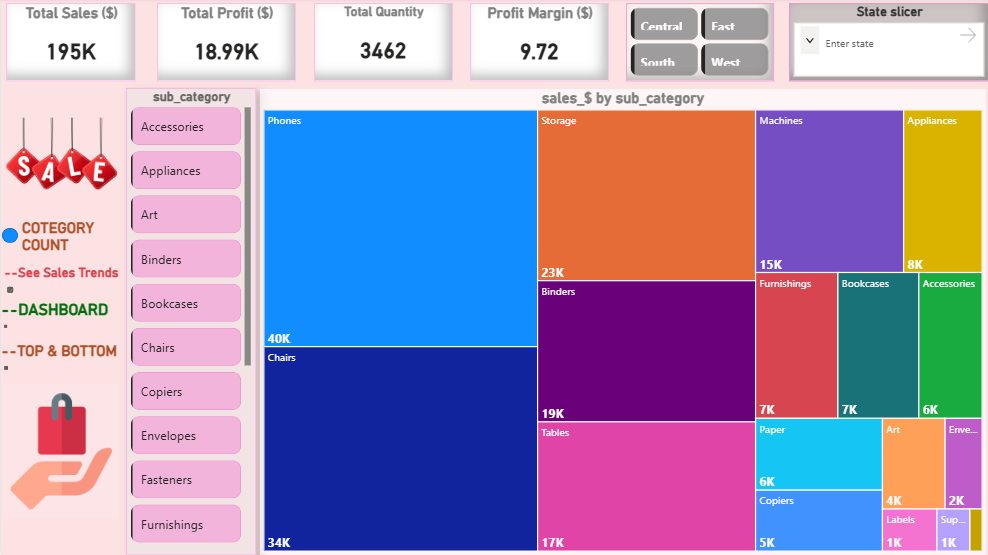

What the dashboard file says about the page in this screenshot:
{"tool":"powerbi","page":{"name":"COTEGORY_COUNT","canvas":[1280,720],"ordinal":3},"visuals":[{"type":"card","title":"Profit Margin ($)","fields":{"Values":["Big_Market_Sales_DATA module 6.Profit Margin %"]},"box":[610.9,2.4,178.6,100.6],"z":0},{"type":"card","title":"Total Quantity","fields":{"Values":["Sum(Big_Market_Sales_DATA module 6.quantity)"]},"box":[409.6,2.4,178.6,100.6],"z":1000},{"type":"card","title":"Total Profit ($)","fields":{"Values":["Sum(Big_Market_Sales_DATA module 6.profit_$)"]},"box":[207,2.4,178.6,100.6],"z":2000},{"type":"card","title":"Total Sales ($)","fields":{"Values":["Sum(Big_Market_Sales_DATA module 6.sales_$)"]},"box":[11.3,2.8,167.2,100.6],"z":3000},{"type":"advancedSlicerVisual","fields":{"Values":["Big_Market_Sales_DATA module 6.region"]},"box":[812.1,2.8,191.3,100.6],"z":4000},{"type":"textSlicer","title":"State slicer ","fields":{"Values":["Big_Market_Sales_DATA module 6.state"]},"box":[1021.9,2.8,258,100.6],"z":5000},{"type":"advancedSlicerVisual","fields":{"Values":["Big_Market_Sales_DATA module 6.sub_category"]},"box":[161.4,117.1,167.1,602.9],"z":6000},{"type":"treemap","title":" sales_$ by sub_category","fields":{"Values":["Sum(Big_Market_Sales_DATA module 6.sales_$)"],"Group":["Big_Market_Sales_DATA module 6.sub_category"]},"box":[342.9,118.6,937.1,601.4],"z":7000},{"type":"actionButton","title":"--TOP & BOTTOM","box":[0,434.2,161.4,40],"z":8000},{"type":"actionButton","title":"--DASHBOARD","box":[0,374.2,161.4,40],"z":9000},{"type":"image","box":[2.9,134.3,155.7,151.4],"z":10000},{"type":"image","box":[2.9,498.6,150,174.3],"z":11000},{"type":"actionButton","title":"--See Sales Trends","box":[0,309.9,161.4,40],"z":12000},{"type":"actionButton","title":"COTEGORY COUNT","box":[25.8,252.9,117.4,45.2],"z":12001},{"type":"shape","box":[0,264.5,20.6,19.4],"z":12002}]}

Visuals, with their boxes in screenshot pixels (x1, y1, x2, y2), scaled from the page's 1280x720 canvas onto the 988x555 screenshot:
"Profit Margin ($)" card: Rect(472, 2, 609, 79)
"Total Quantity" card: Rect(316, 2, 454, 79)
"Total Profit ($)" card: Rect(160, 2, 298, 79)
"Total Sales ($)" card: Rect(9, 2, 138, 80)
advancedSlicerVisual - Big_Market_Sales_DATA module 6.region: Rect(627, 2, 774, 80)
"State slicer " textSlicer: Rect(789, 2, 987, 80)
advancedSlicerVisual - Big_Market_Sales_DATA module 6.sub_category: Rect(125, 90, 254, 554)
" sales_$ by sub_category" treemap: Rect(265, 91, 987, 554)
"--TOP & BOTTOM" actionButton: Rect(0, 335, 125, 366)
"--DASHBOARD" actionButton: Rect(0, 288, 125, 319)
image: Rect(2, 104, 122, 220)
image: Rect(2, 384, 118, 519)
"--See Sales Trends" actionButton: Rect(0, 239, 125, 270)
"COTEGORY COUNT" actionButton: Rect(20, 195, 111, 230)
shape: Rect(0, 204, 16, 219)
